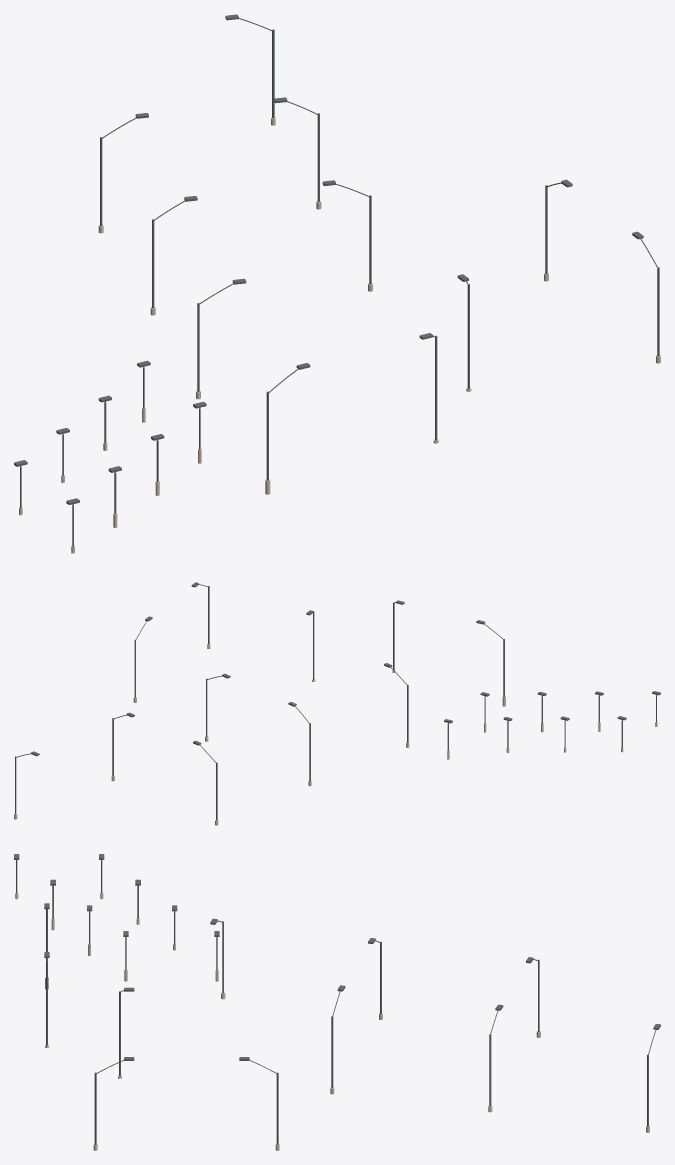
3 renders of one model, top to bottom at view 1: azimuth 30°, elevation 25°; view 2: azimuth 150°, elevation 25°; view 3: azimuth 270°, elevation 25°, orthographic. The views are drawn at different scales.
Parts seen in each view (by area): view 1: buildings_s_-3_-2_Dark_Metal, buildings_s_-3_-2_Warm_Limestone; view 2: buildings_s_-3_-2_Dark_Metal, buildings_s_-3_-2_Warm_Limestone; view 3: buildings_s_-3_-2_Dark_Metal, buildings_s_-3_-2_Warm_Limestone.
Boxes of the visible parts, x1,y1,x2,y2 form: buildings_s_-3_-2_Dark_Metal: (14, 14, 659, 546); buildings_s_-3_-2_Warm_Limestone: (19, 117, 660, 553); buildings_s_-3_-2_Dark_Metal: (15, 582, 660, 820); buildings_s_-3_-2_Warm_Limestone: (14, 643, 657, 825); buildings_s_-3_-2_Dark_Metal: (14, 854, 660, 1144); buildings_s_-3_-2_Warm_Limestone: (15, 892, 649, 1150).
Bounding box in the file's own units: 99.3 × 17.75 × 107.
